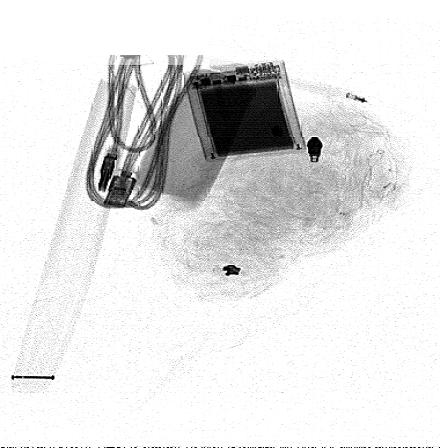Powerbank: (182, 61, 305, 160)
